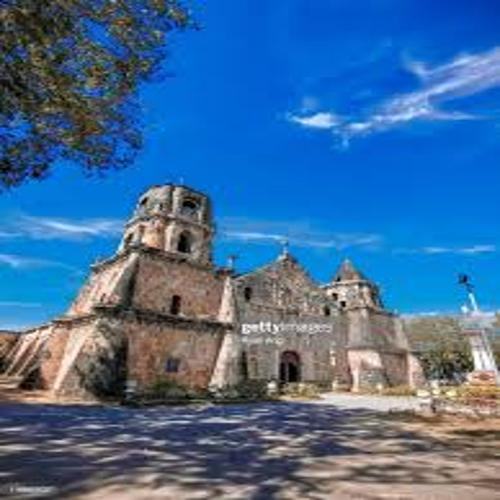Miagao Church: (67, 176, 412, 411)
